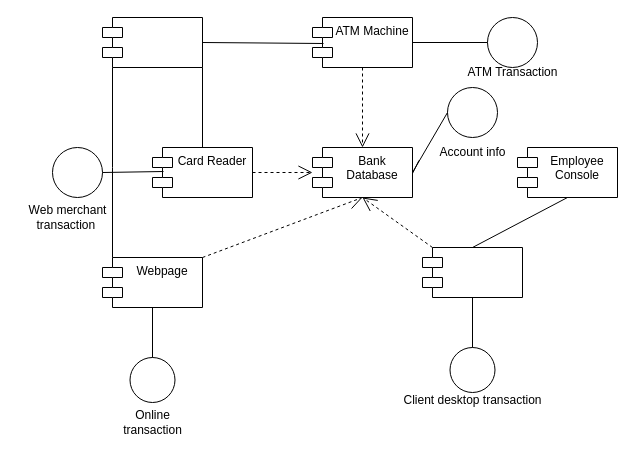
Image size: 635x460. Some labels were removed from this diagram. The centre of each missing label's shape, as x and y in pixels:
Client Desktop: the point at 472,272
Customer Console: the point at 152,42
